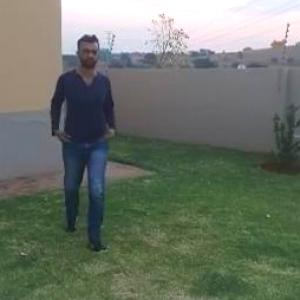follow: (52, 34, 117, 227)
